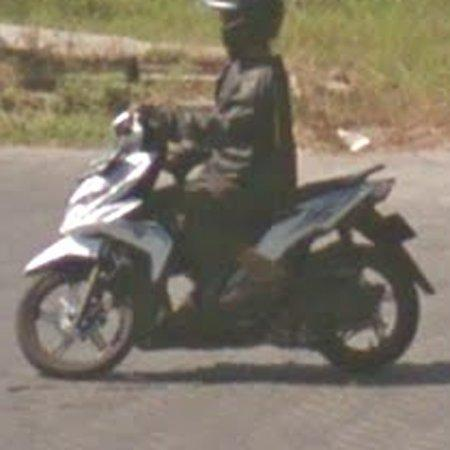motorcycles: (17, 110, 198, 378), (221, 166, 433, 368)
